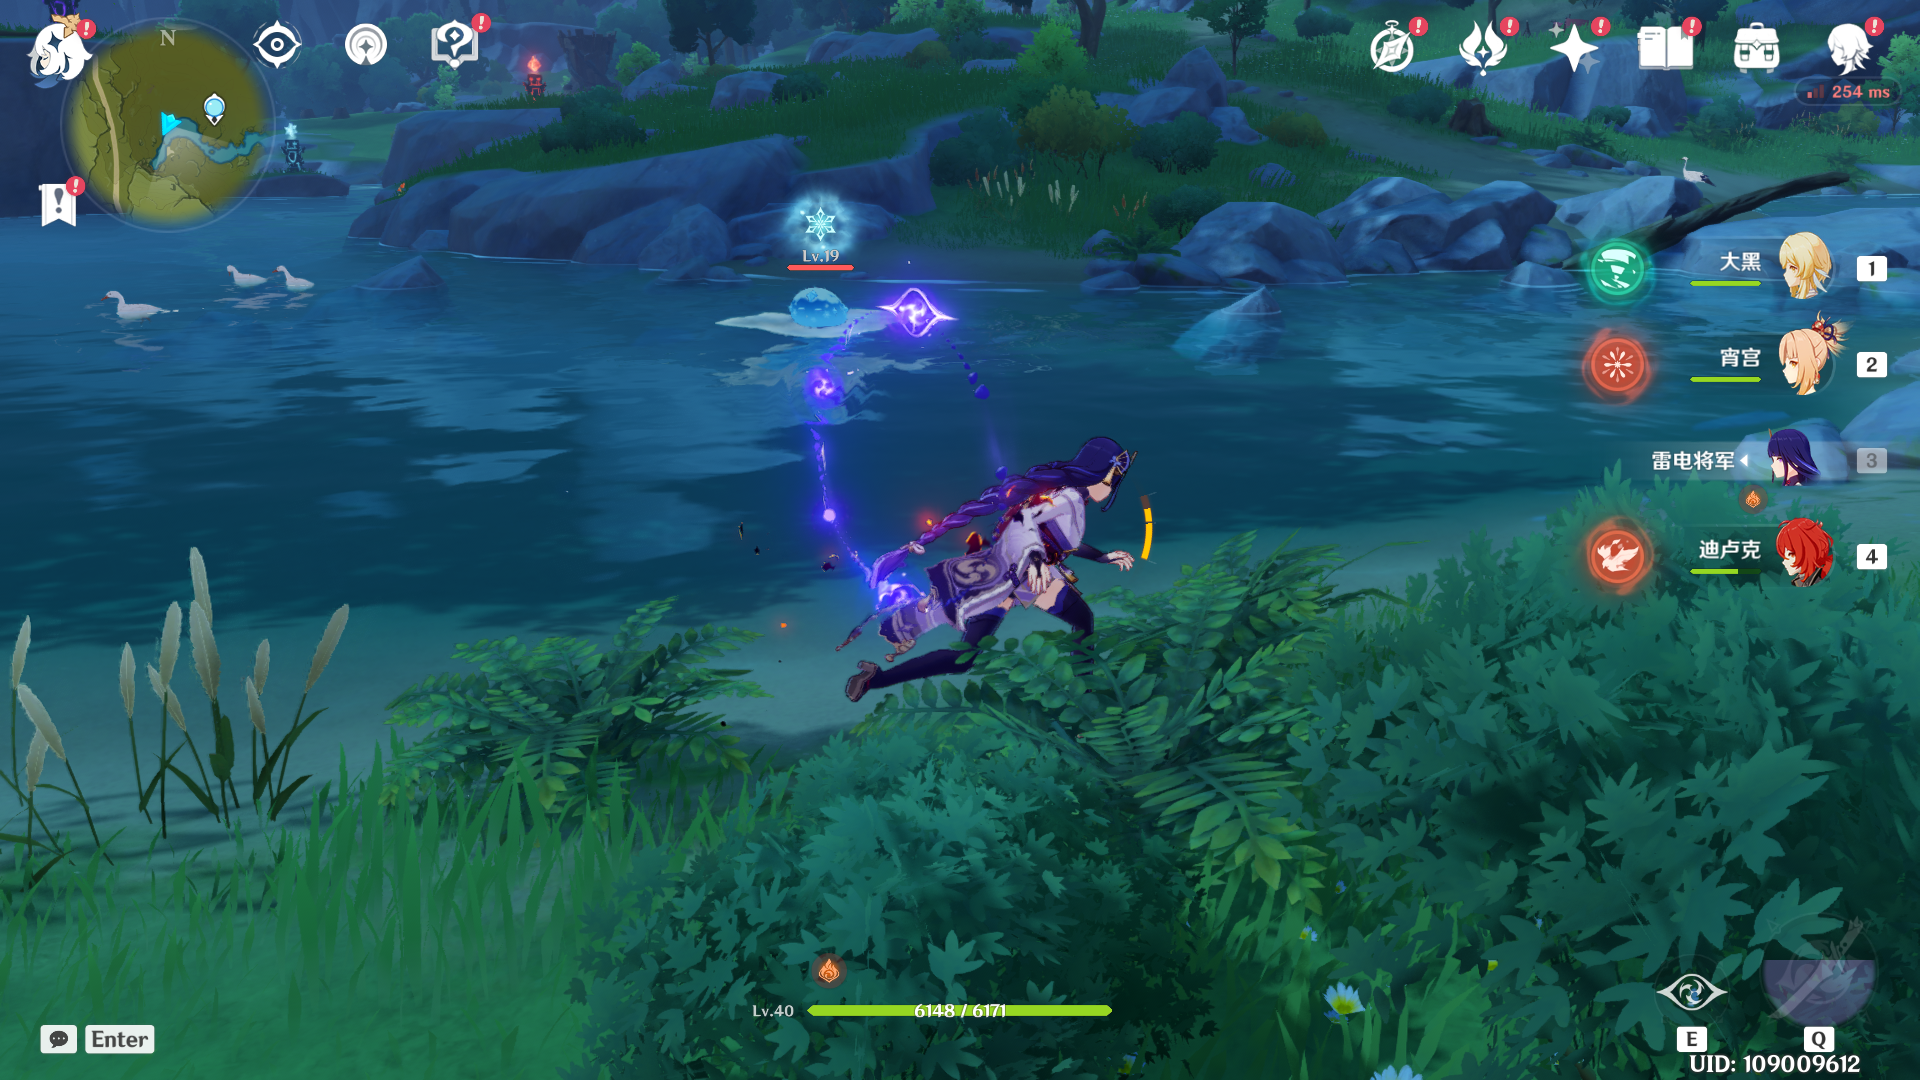character: (848, 427, 1170, 744)
slime: (769, 281, 869, 339)
